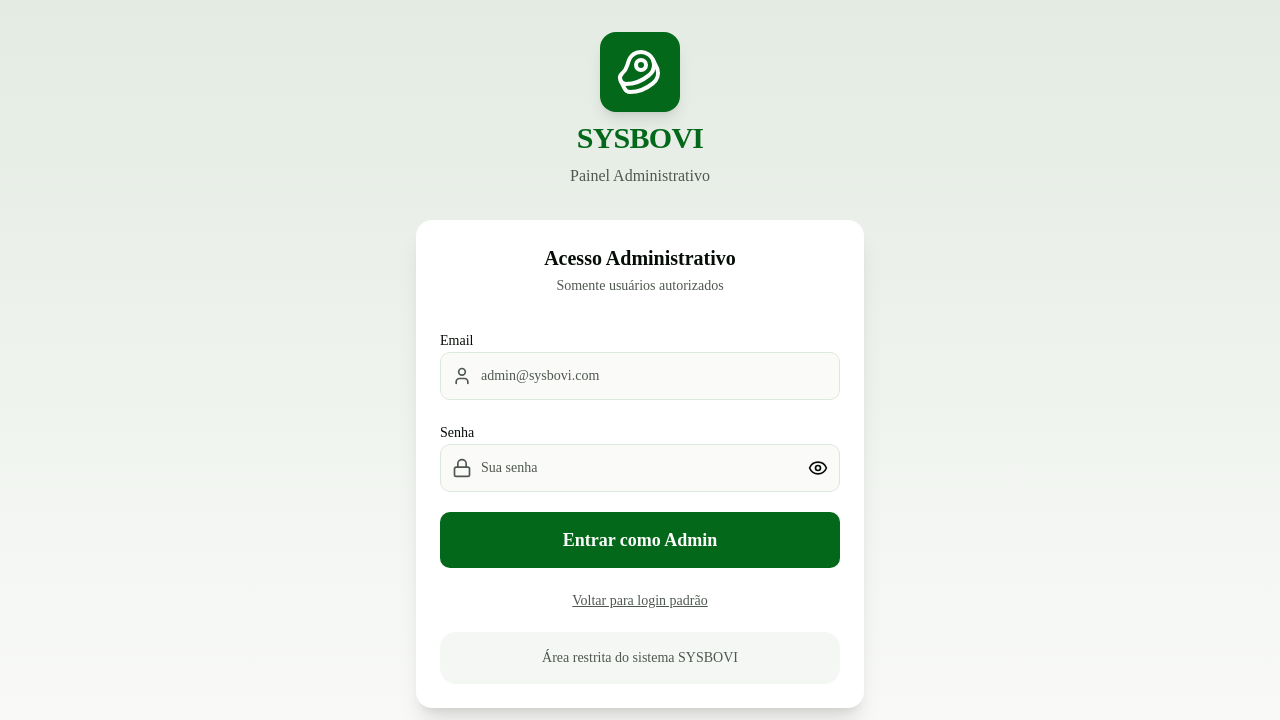
AdminLoginPage — validação de formulário › exibe erro quando senha tem menos de 3 caracteres
Type "superadmin@sysbovi.com" into the field labelled "Email" at (640, 376), box [440,352,840,400]
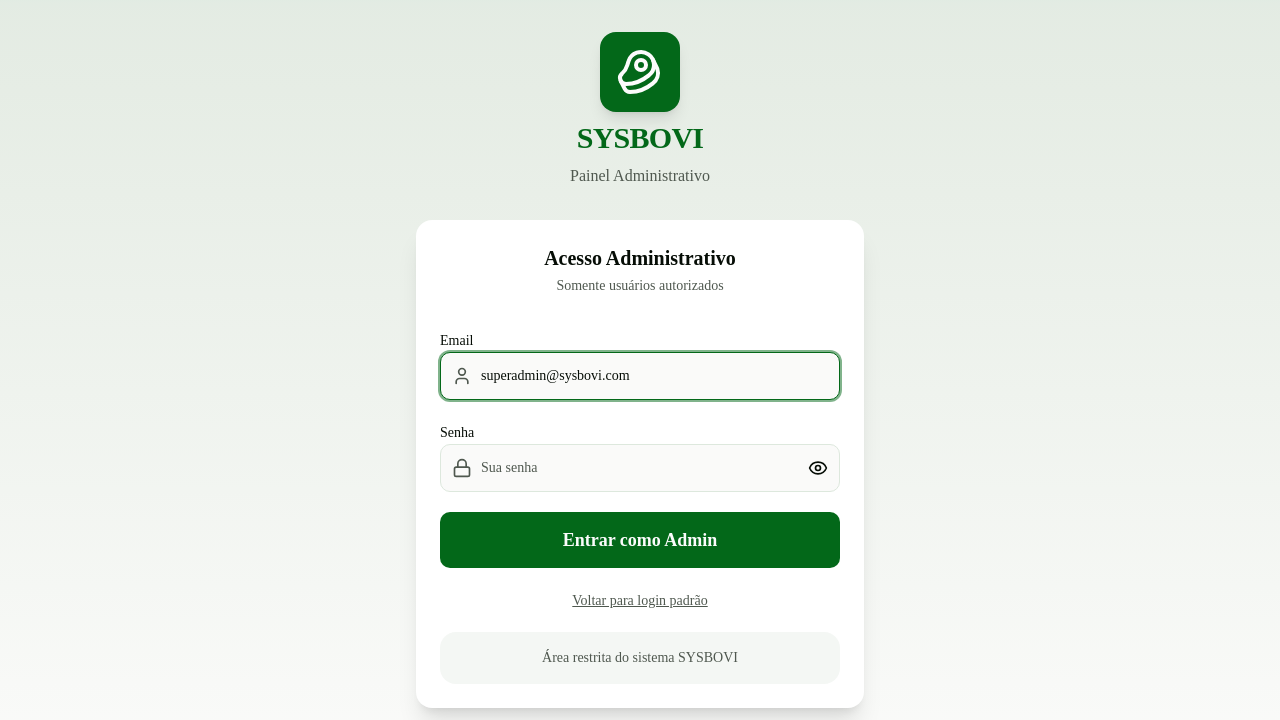
Type "ab" into the password field labelled "Senha" at (640, 468), box [440,444,840,492]
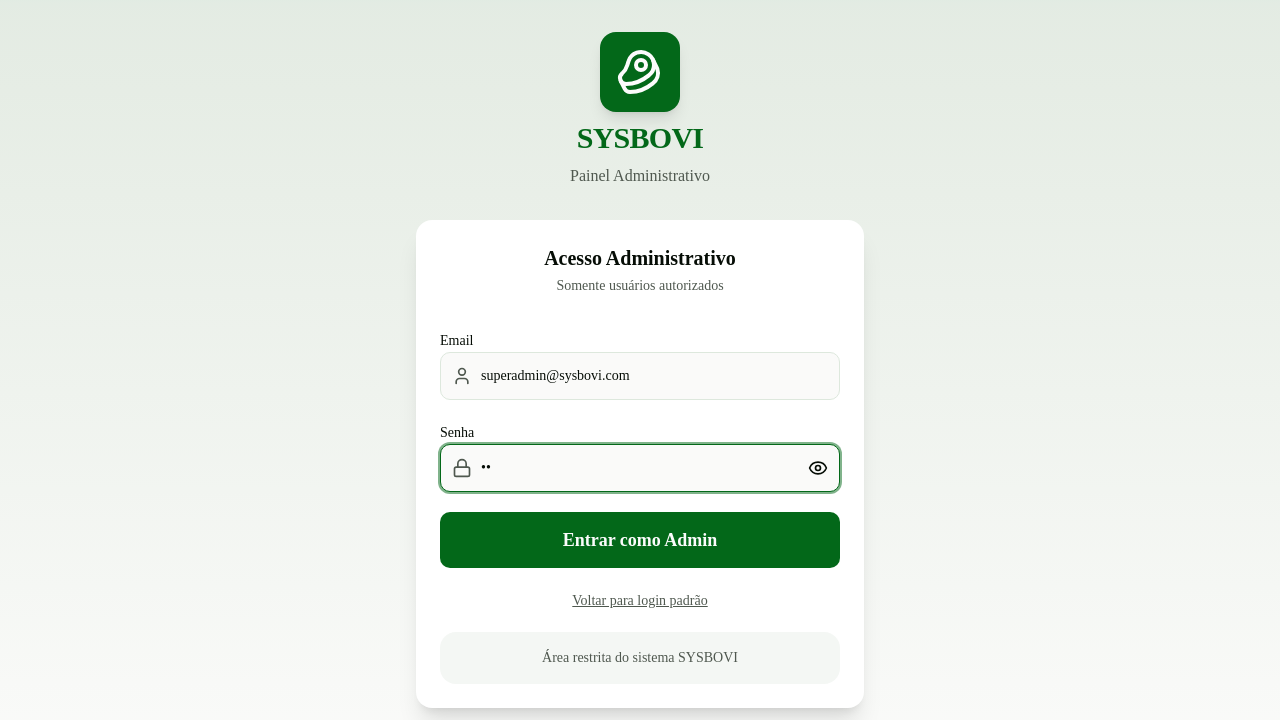
Click the button "Entrar como Admin" at (640, 540), box [440,512,840,568]
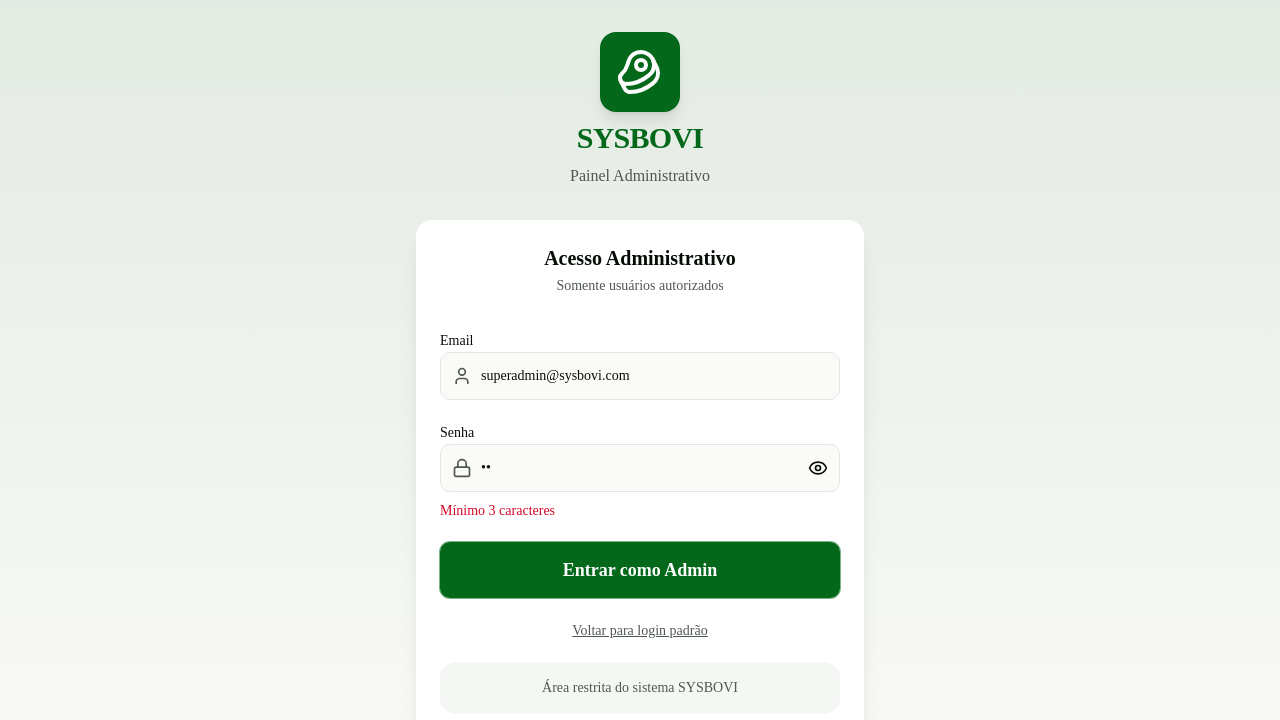
Now the text "Mínimo 3 caracteres" is shown, box [440,503,555,518]
